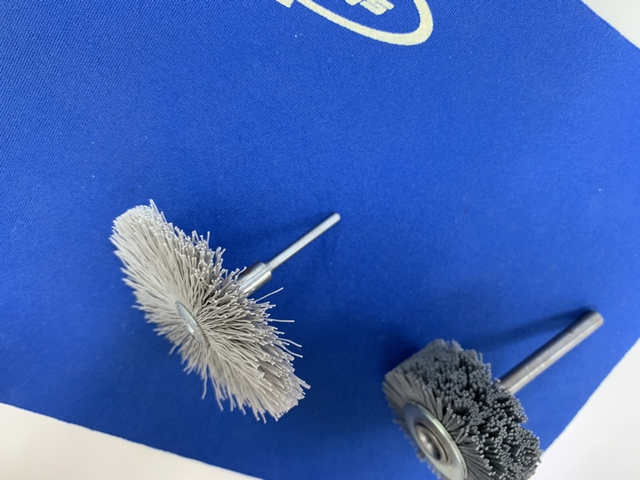TOOL: (99, 186, 342, 424)
Wheel Brush: (380, 300, 608, 478)
